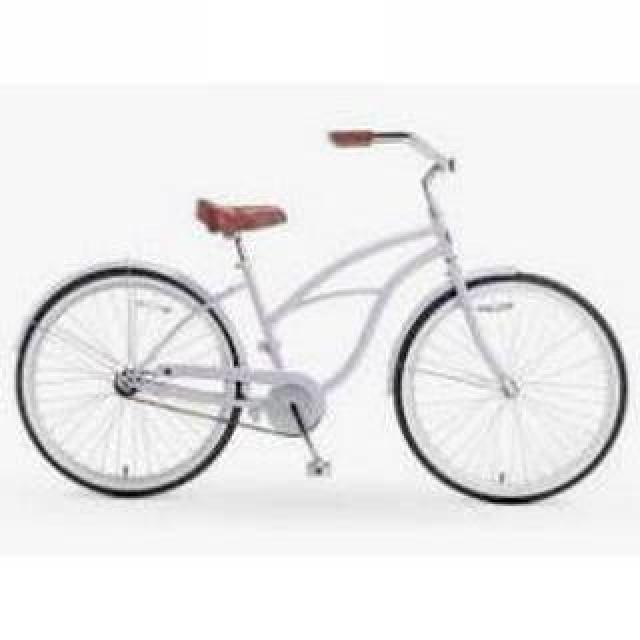Person: (16, 131, 630, 513)
